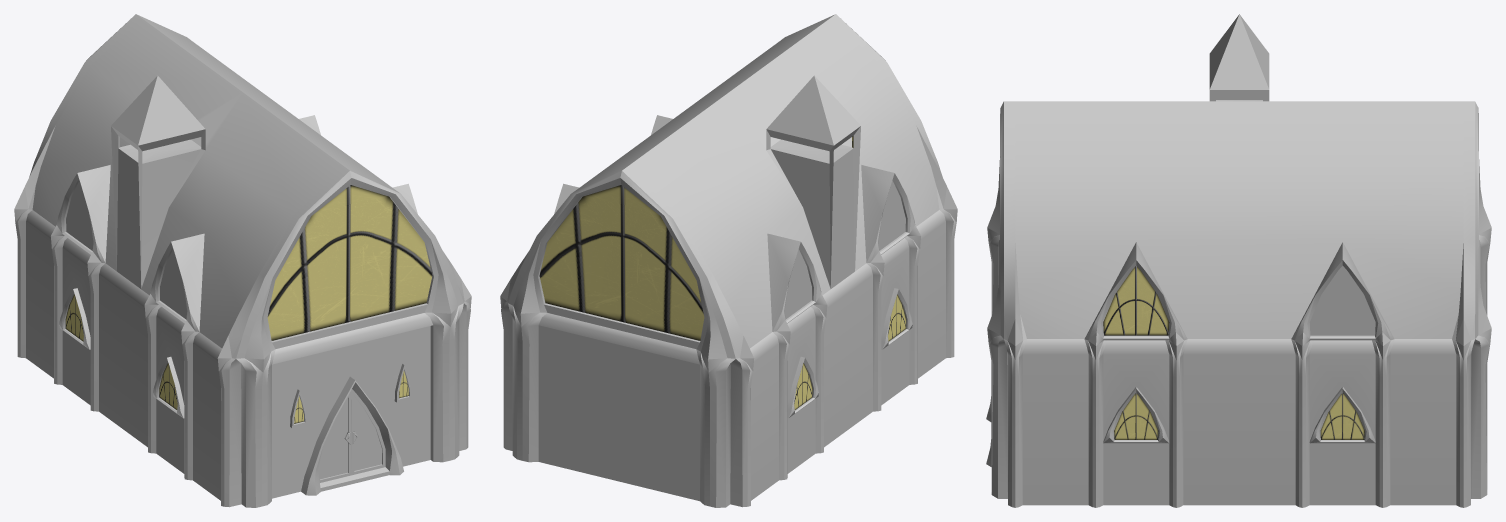
File: ruraltown_house_big.fbx
3 renders of one model, left to right at view 1: azimuth 30°, elevation 25°; view 2: azimuth 150°, elevation 25°; view 3: azimuth 270°, elevation 25°, orthographic. The views are drawn at different scales.
Visible parts, largest first — view 1: ruraltown_house_big; view 2: ruraltown_house_big; view 3: ruraltown_house_big.
Boxes of the visible parts, box(x1,y1,x2,y2) form: ruraltown_house_big: box(14, 14, 471, 507); ruraltown_house_big: box(500, 14, 957, 507); ruraltown_house_big: box(986, 14, 1491, 507).
Bounding box in the file's own units: 7.15 × 9.32 × 11.19.
